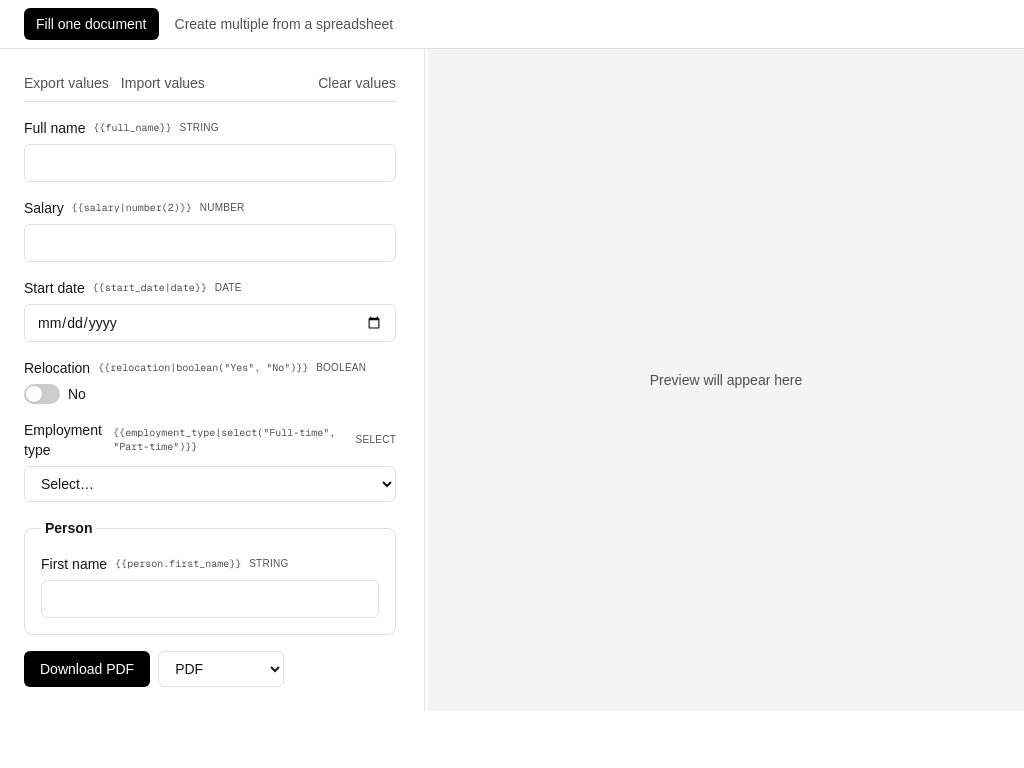
Scenario: FillForm — submit, persistence & values import/export › clears all field values back to their defaults
Type "Jane Doe" into the field labelled "Full name {{full_name}} string" at (210, 163), box 24,144 -> 396,182
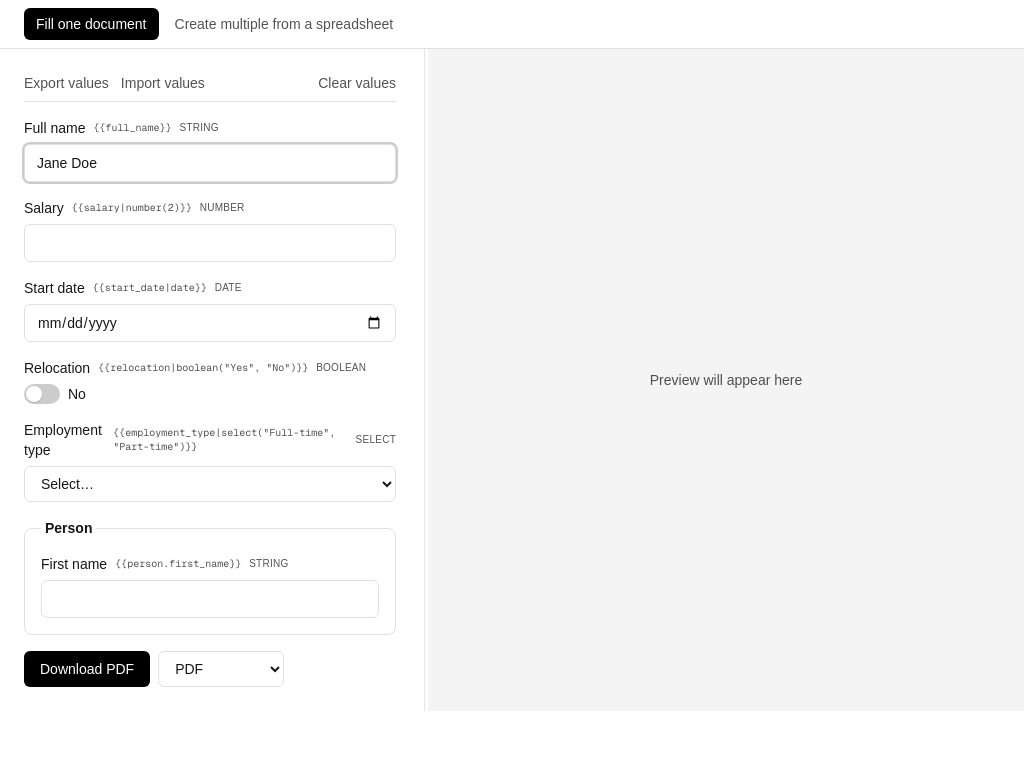
Type "1000" into the number field labelled "Salary {{salary|number(2)}} number" at (210, 243), box 24,224 -> 396,262
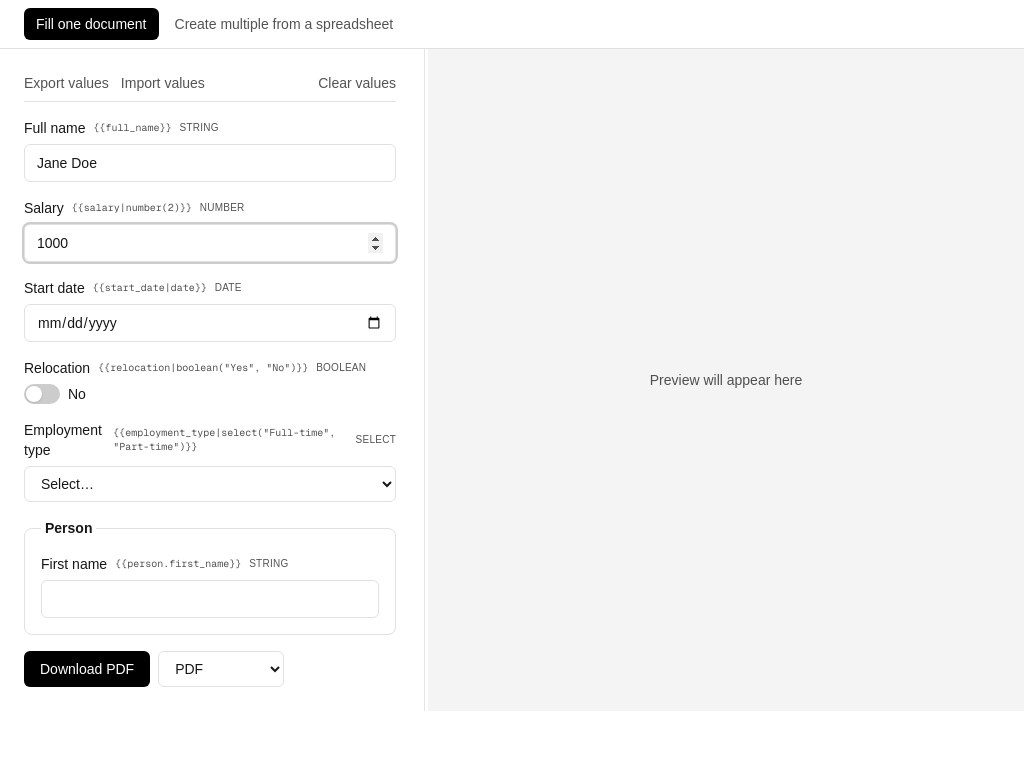
Click the switch at (42, 394), box 24,384 -> 60,404
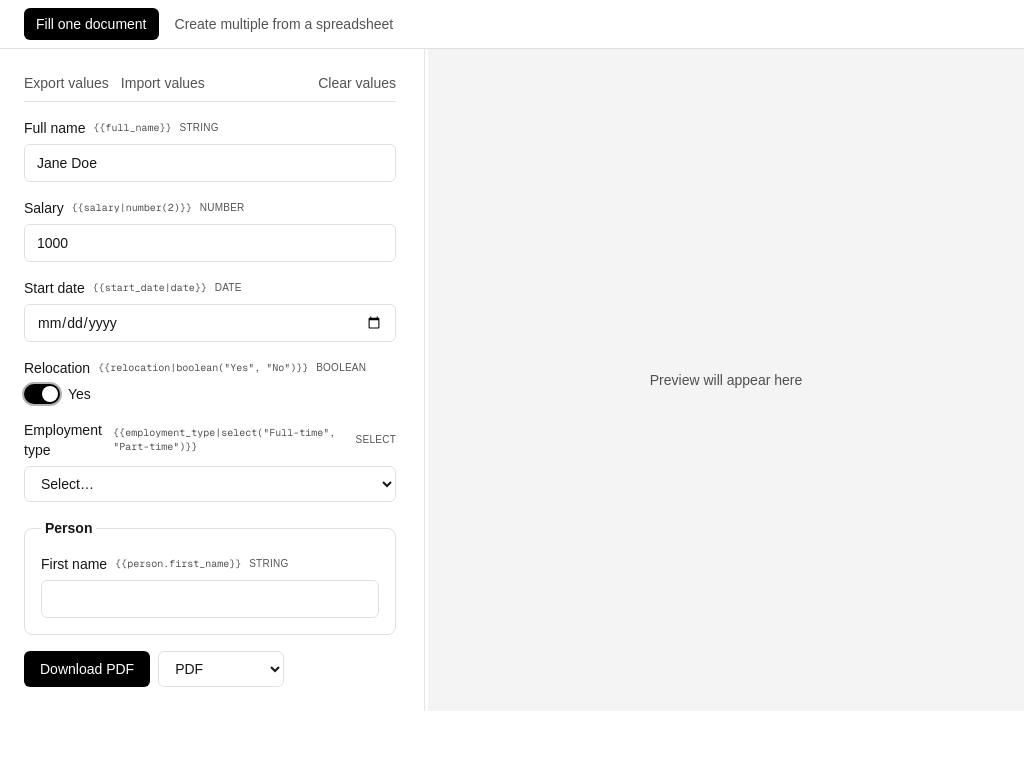
Click the button "Clear values" at (357, 83), box 318,73 -> 396,93
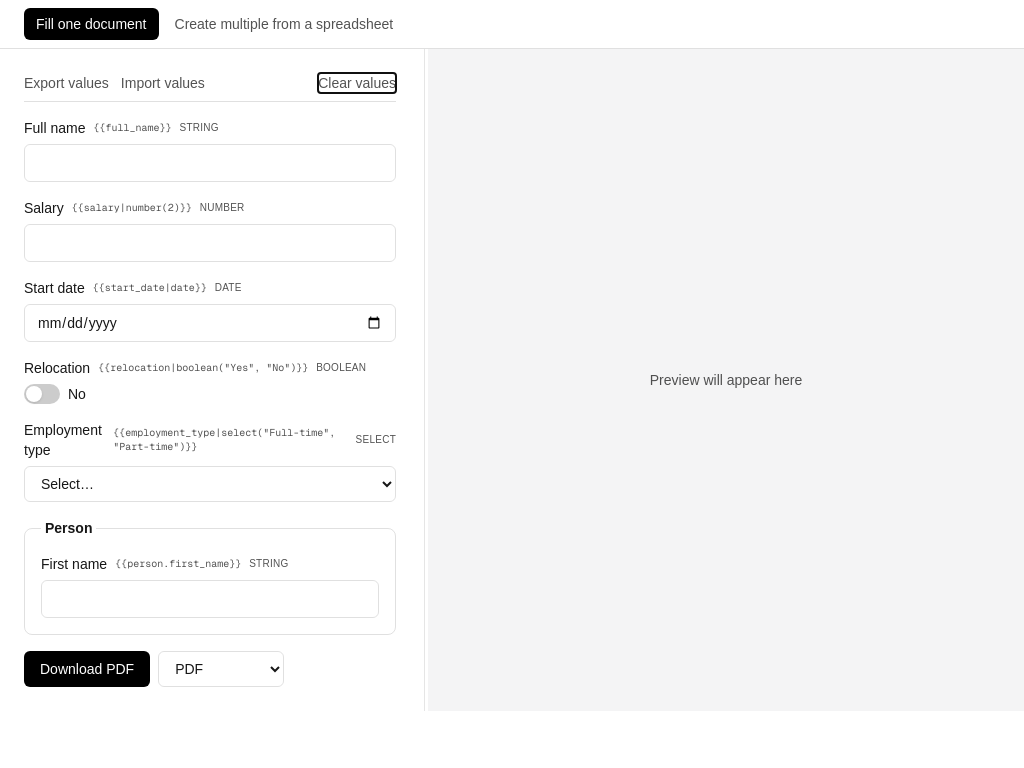
Expected: the field labelled "Full name {{full_name}} string" is empty, 24,144 -> 396,182
Expected: the number field labelled "Salary {{salary|number(2)}} number" is not empty, 24,224 -> 396,262
